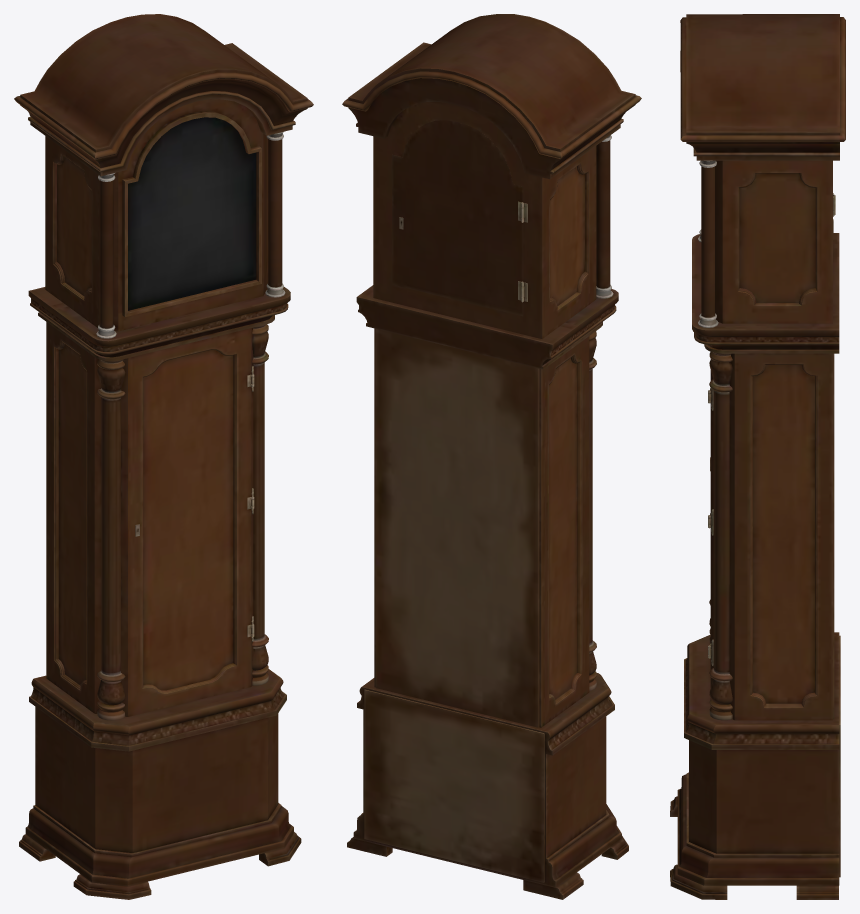
File: vintage_grandfather_clock_01.e4a0f833.glb
3 renders of one model, left to right at view 1: azimuth 30°, elevation 25°; view 2: azimuth 150°, elevation 25°; view 3: azimuth 270°, elevation 25°, orthographic. The views are drawn at different scales.
Parts seen in each view (by area): view 1: vintage_grandfather_clock_01_Body; view 2: vintage_grandfather_clock_01_Body; view 3: vintage_grandfather_clock_01_Body.
Boxes of the visible parts, left/top/right/bottom form: vintage_grandfather_clock_01_Body: left=14, top=14, right=313, bottom=899; vintage_grandfather_clock_01_Body: left=342, top=14, right=641, bottom=899; vintage_grandfather_clock_01_Body: left=670, top=14, right=845, bottom=899.
Size of the model in its own units: 0.2856 by 1 by 0.1947.
2 materials, 2 textured.
